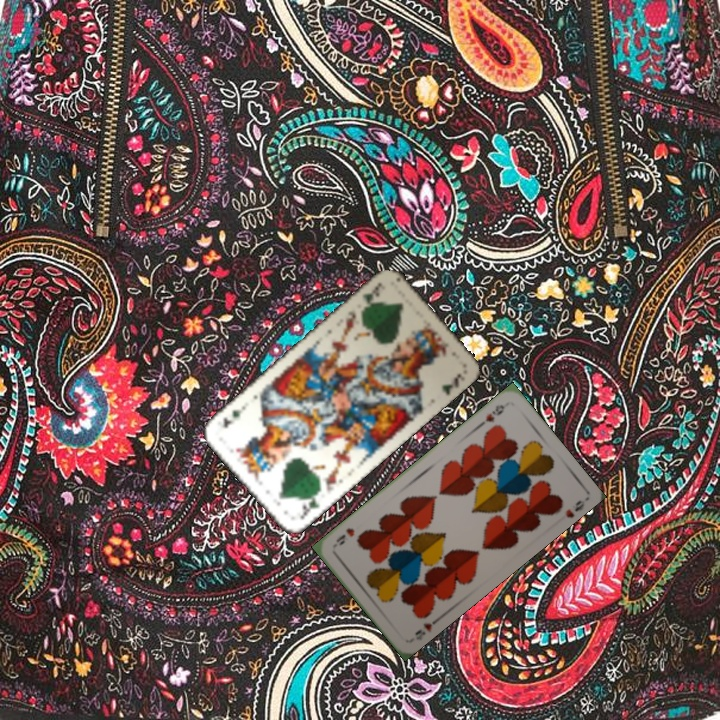GK: (358, 277, 388, 311), (296, 488, 323, 522)
H9: (411, 614, 442, 643), (481, 399, 510, 425)
